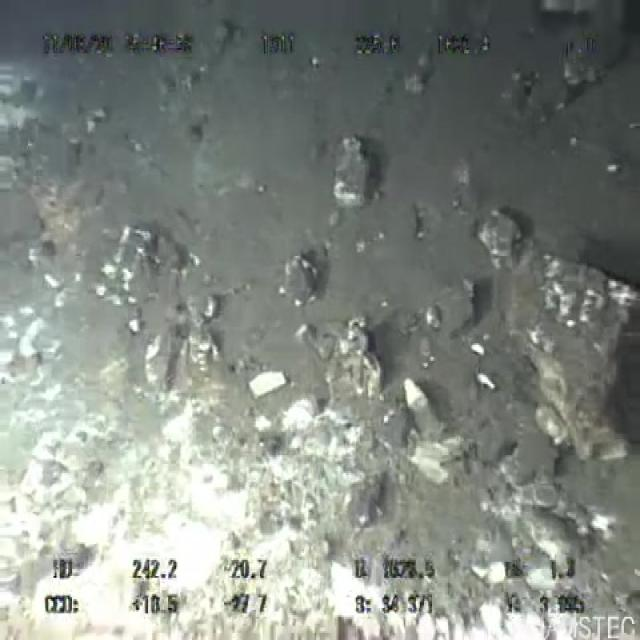plastic: (399, 368, 444, 443)
